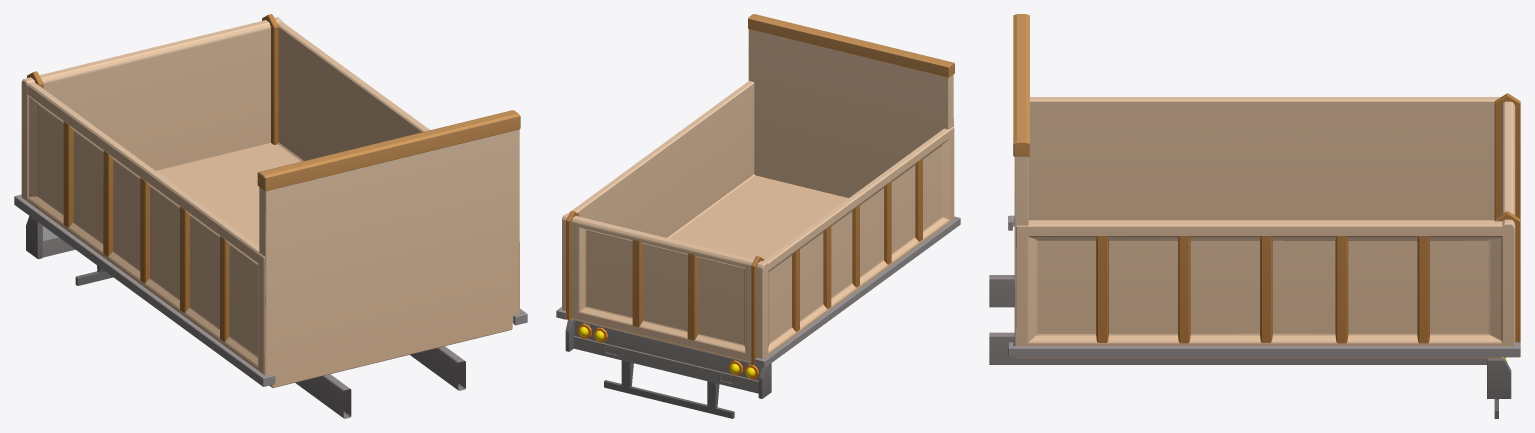
Rendered from Trailer_2_lvl1.fbx.
3 views of the same model, side by side, from view 1: azimuth 30°, elevation 25°; view 2: azimuth 150°, elevation 25°; view 3: azimuth 270°, elevation 25° (orthographic). The views are drawn at different scales.
Parts seen in each view (by area): view 1: Tr; view 2: Tr; view 3: Tr.
Boxes of the visible parts, x1=… form: Tr: x1=14, y1=14, x2=527, y2=418; Tr: x1=556, y1=14, x2=960, y2=418; Tr: x1=989, y1=14, x2=1520, y2=418.
Size of the model in its own units: 3454 by 3639 by 5840.
